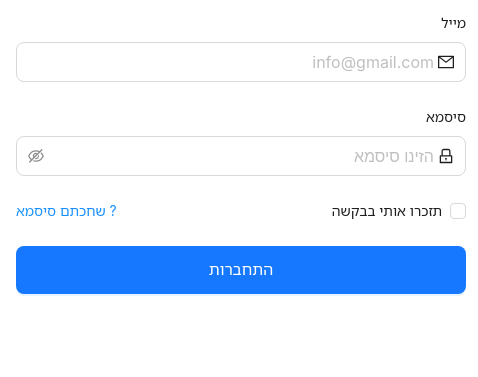
Test case: LoginForm › displays error on failed login
The width and height of the screenshot is (478, 377).
Type "test@test.com" into the field labelled "מייל" at (231, 62), box [28,50,434,74]
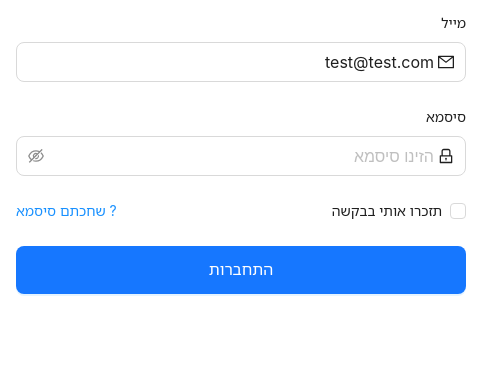
Type "password123" into the password field labelled "סיסמא" at (241, 156), box [48,144,434,168]
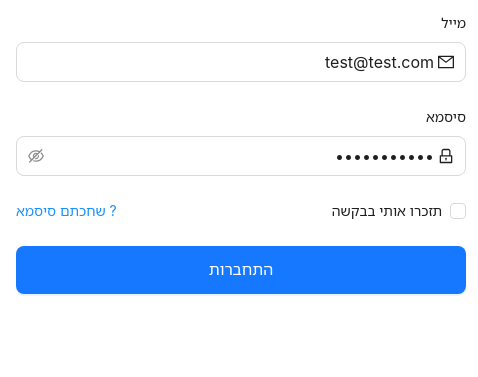
Click the button "התחברות" at (241, 270), box [16,246,466,294]
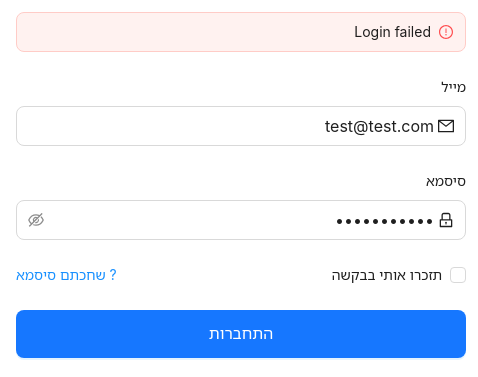
Check: the text "Login failed" is shown, box [354,22,431,41]
